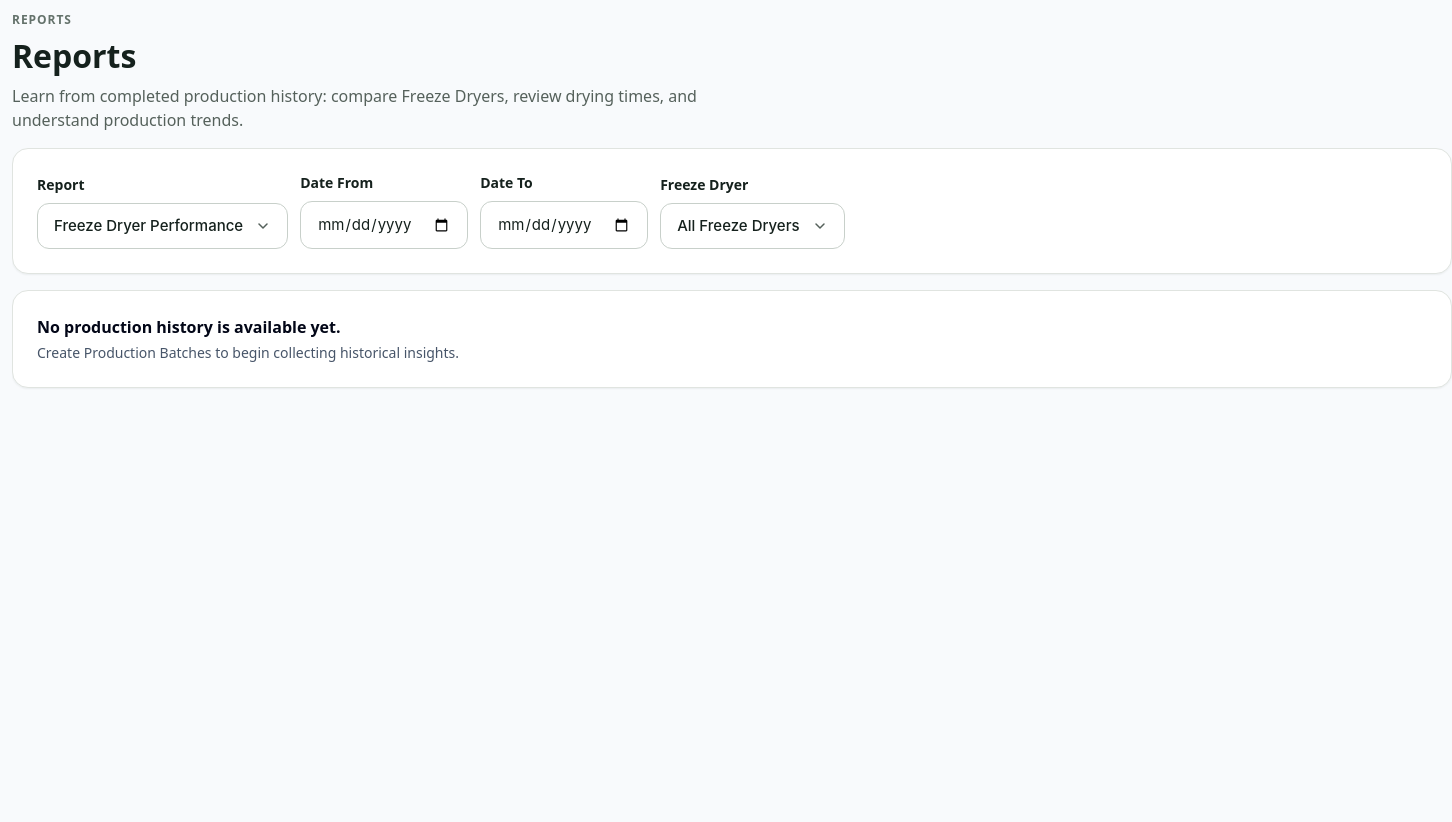
Test: ReportsPage › Preparation History's No Preset row has no expand control, and a real Preset row expands by its snapshot name
Expected: the text "No production history is available yet." is shown, x1=37 y1=316 x2=341 y2=338
Click the dropdown named "Report": (163, 226) x1=37 y1=203 x2=288 y2=249
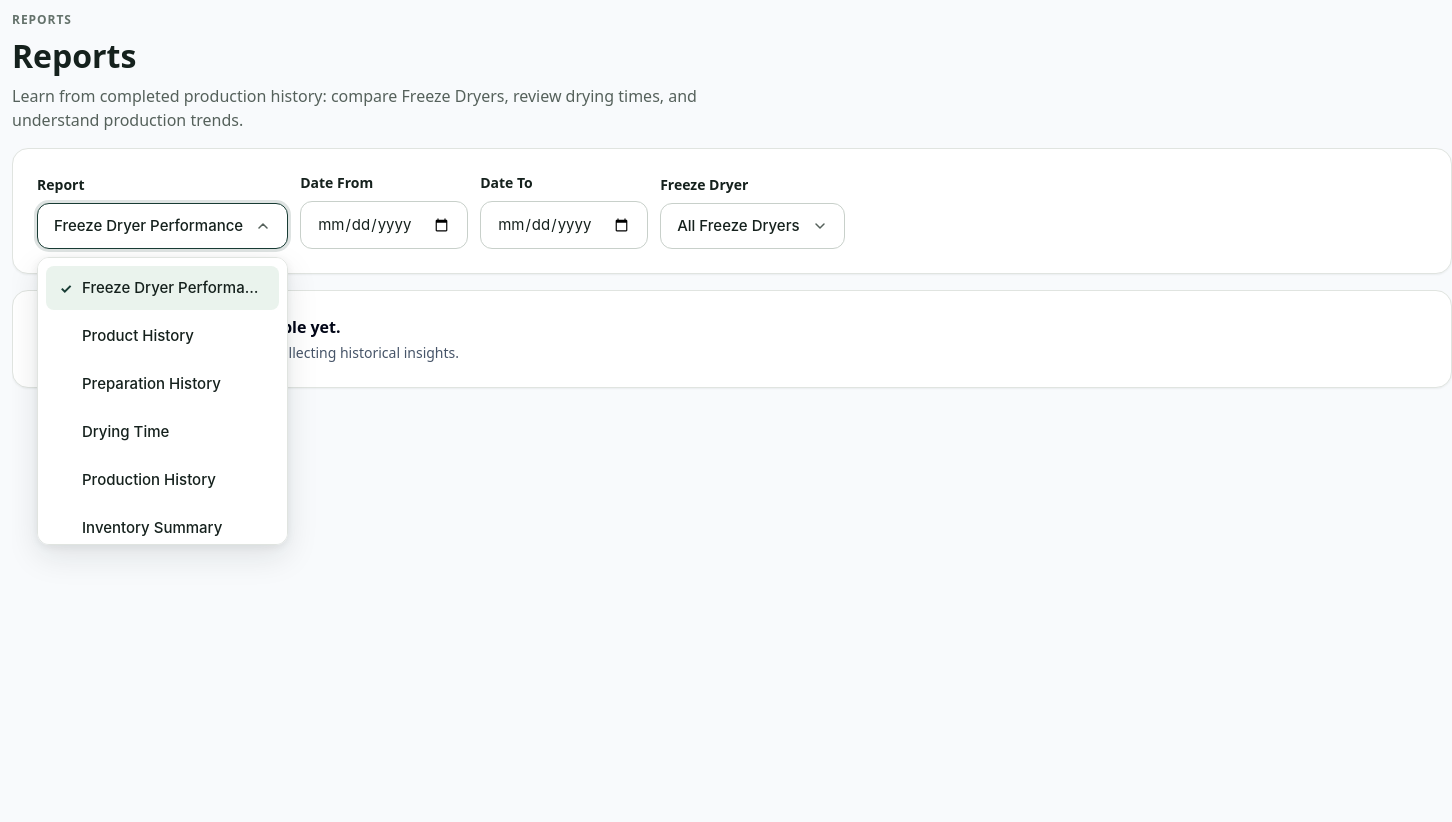
Click the option "Preparation History": (163, 384) x1=46 y1=362 x2=279 y2=406
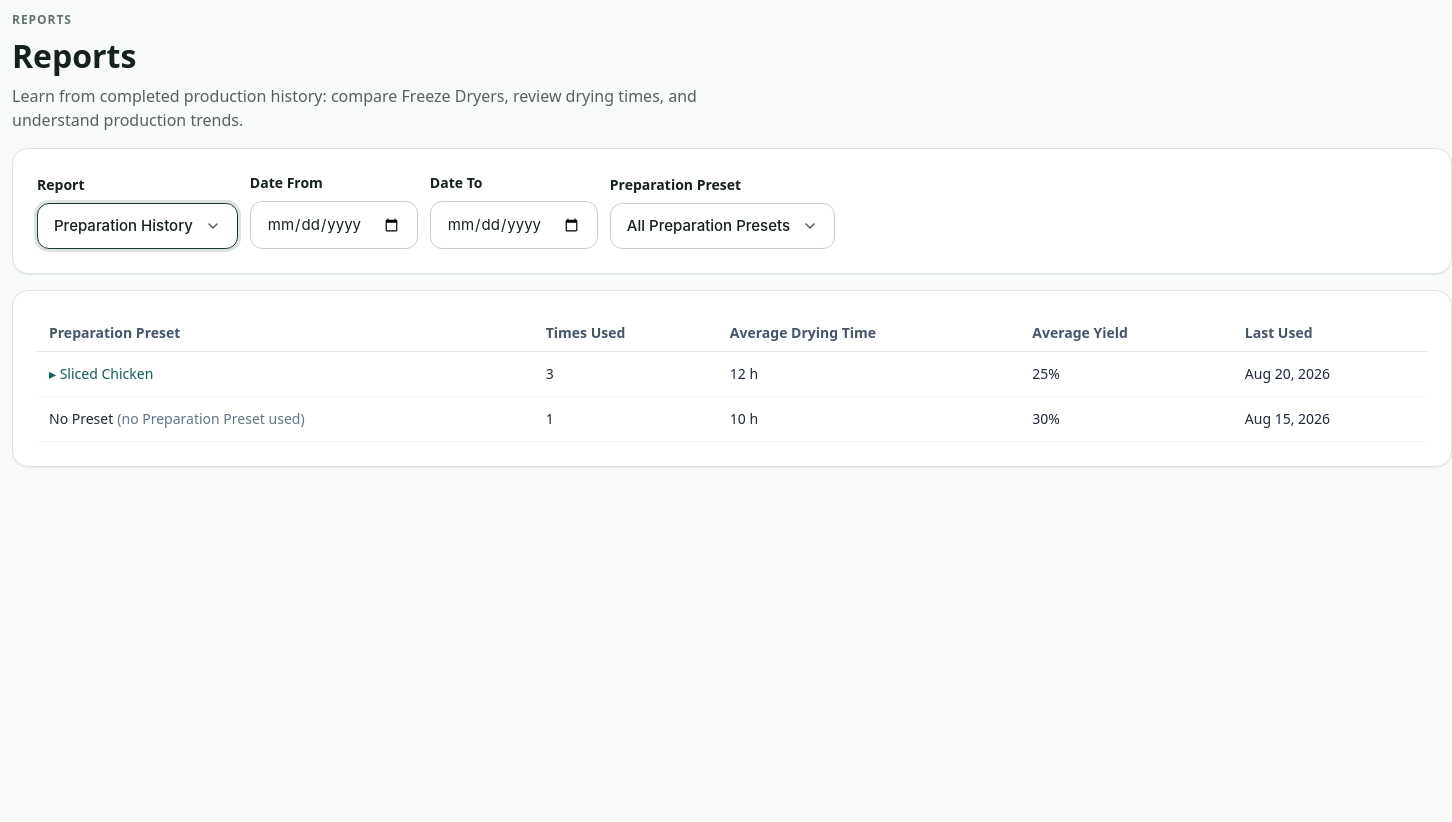
Expected: the button "▸ Sliced Chicken" is shown
Click the button "▸ Sliced Chicken": (101, 374) x1=49 y1=364 x2=153 y2=384
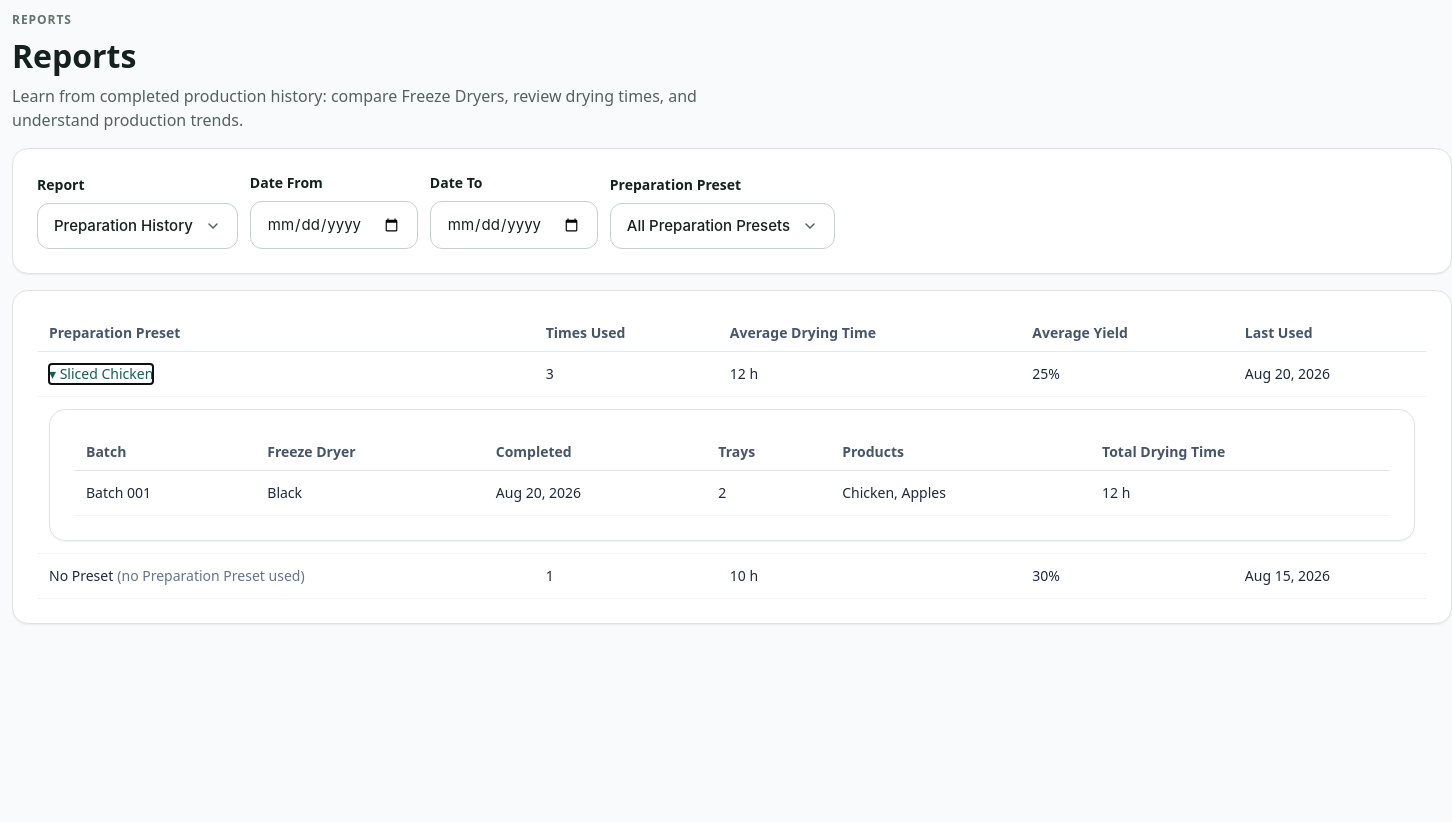
Expected: the text "Batch 001" is shown, x1=74 y1=470 x2=255 y2=516
